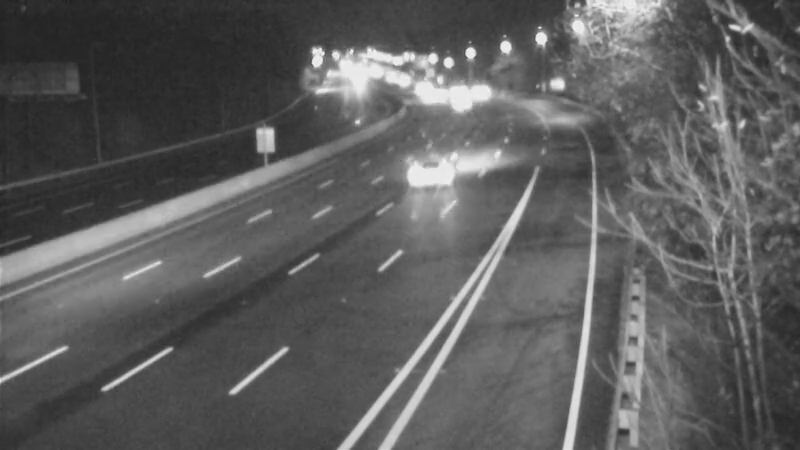vehicle: (387, 139, 467, 219), (393, 61, 443, 111), (455, 67, 505, 117), (407, 73, 457, 123), (433, 77, 483, 127)
